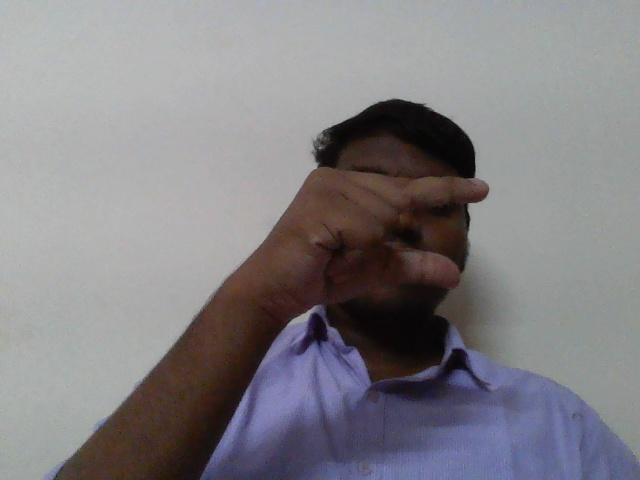No: (272, 157, 500, 335)
